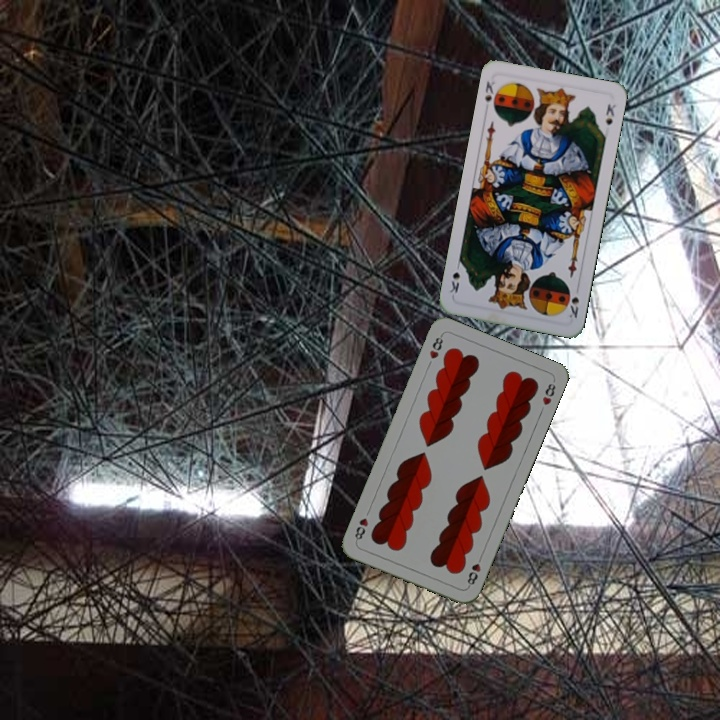H8: (463, 551, 485, 590), (425, 331, 446, 362)
SK: (562, 282, 582, 321), (481, 77, 498, 105)
